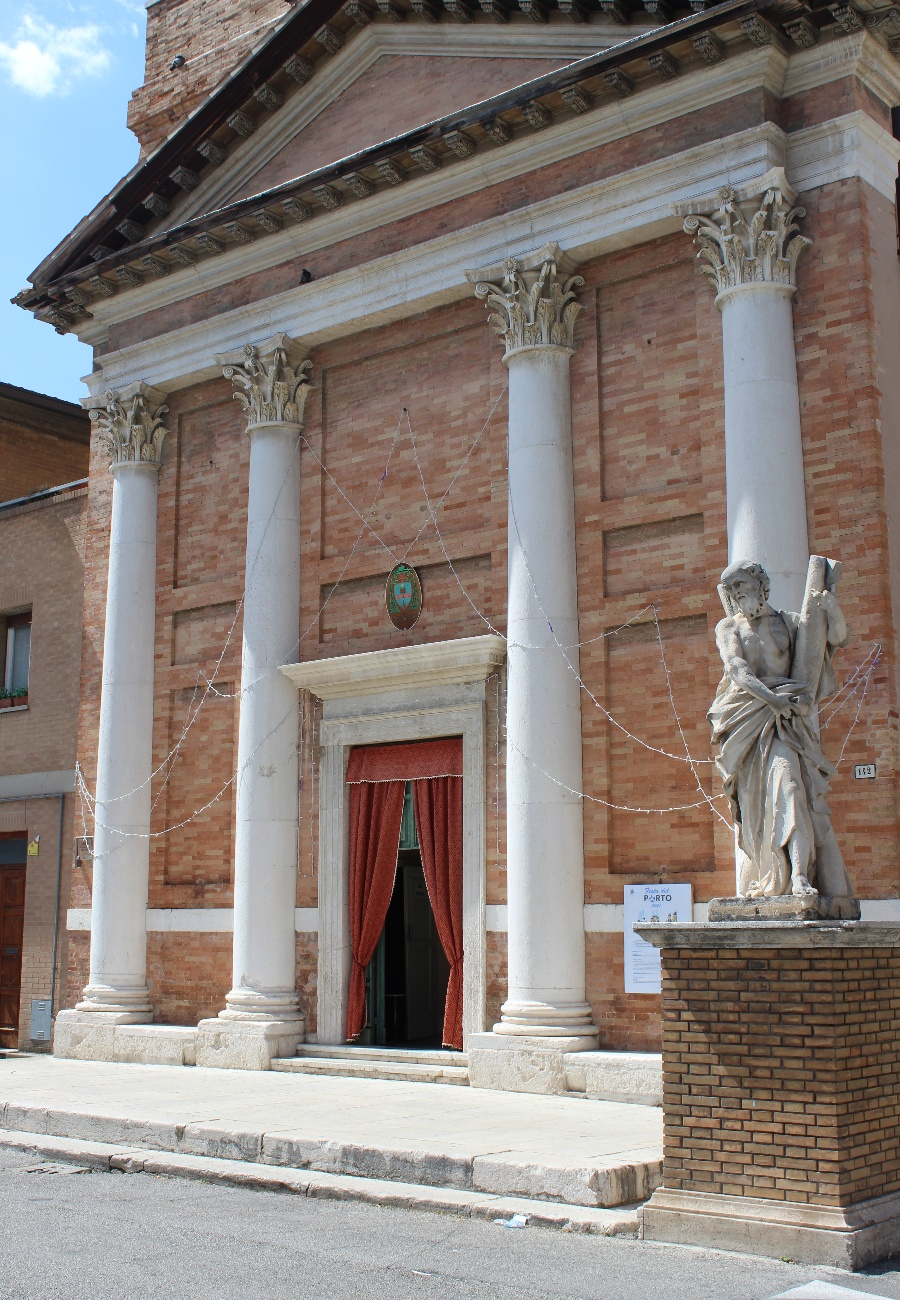Parrocchia Santa Maria: (9, 24, 898, 1205)
